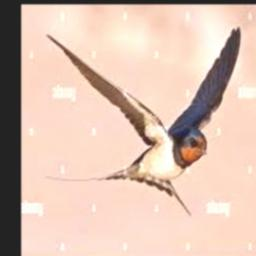Swallow: (45, 26, 241, 216)
